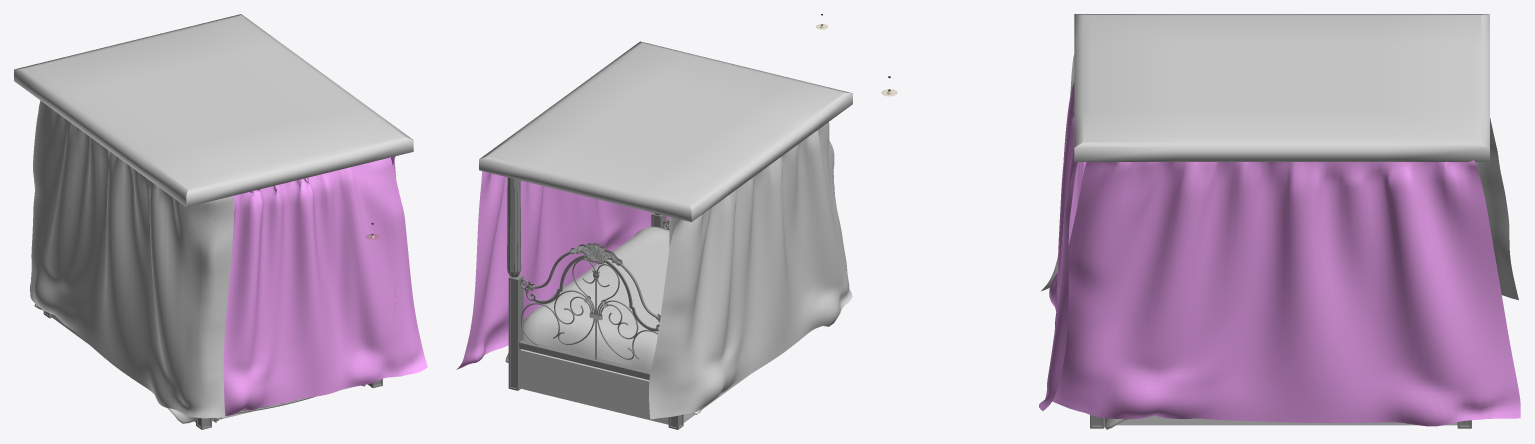
The model's file is Bed.FBX.
3 renders of one model, left to right at view 1: azimuth 30°, elevation 25°; view 2: azimuth 150°, elevation 25°; view 3: azimuth 270°, elevation 25°, orthographic. The views are drawn at different scales.
Parts seen in each view (by area): view 1: Bed Top Frame, Curtain Left, Curtain Front; view 2: Bed Top Frame, Curtain Left, Curtain Right, Sheet, Posts, Frame, Headboard Metal; view 3: Curtain Right, Bed Top Frame, Curtain Front, Curtain Left, Frame.
Part boxes in pixels (bbox=[...]): Bed Top Frame: bbox=[14, 14, 413, 207]; Curtain Left: bbox=[29, 100, 233, 418]; Curtain Front: bbox=[215, 157, 427, 415]; Bed Top Frame: bbox=[479, 41, 852, 222]; Curtain Left: bbox=[649, 122, 852, 419]; Curtain Right: bbox=[456, 171, 669, 369]; Sheet: bbox=[505, 226, 836, 414]; Posts: bbox=[507, 177, 683, 429]; Frame: bbox=[520, 349, 748, 424]; Headboard Metal: bbox=[520, 250, 660, 359]; Curtain Right: bbox=[1045, 160, 1520, 426]; Bed Top Frame: bbox=[1074, 14, 1489, 161]; Curtain Front: bbox=[1039, 82, 1086, 410]; Curtain Left: bbox=[1041, 55, 1518, 299]; Frame: bbox=[1116, 416, 1457, 425].
Bounding box in the file's own units: 104 × 101 × 195.
